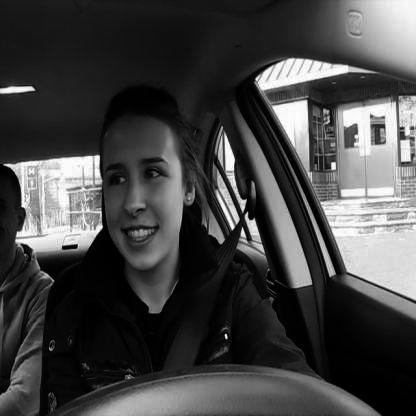seatbelt: (85, 74, 258, 416)
